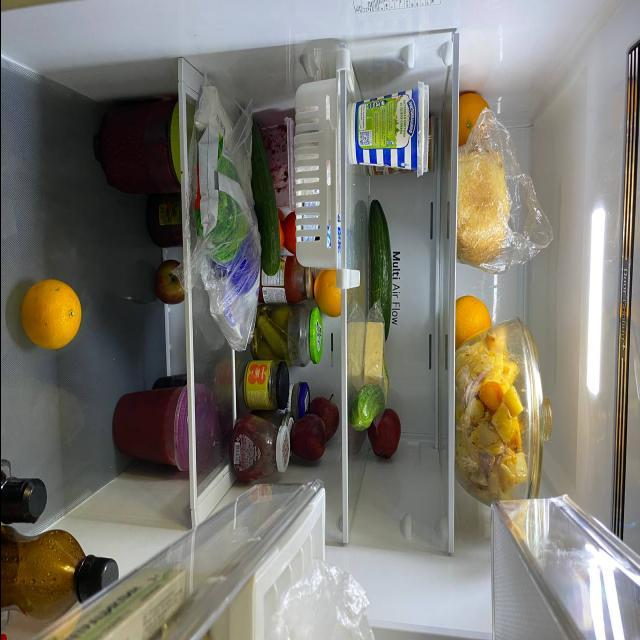Apple: (147, 262, 187, 314), (290, 411, 324, 469), (369, 412, 400, 460), (310, 398, 336, 442)
Cucumber: (248, 106, 277, 284), (367, 200, 395, 342), (346, 388, 383, 438)
Orange: (19, 275, 83, 353), (457, 292, 496, 349), (310, 272, 348, 322), (458, 88, 490, 146)
Tomato: (282, 214, 302, 250), (279, 210, 282, 264)
